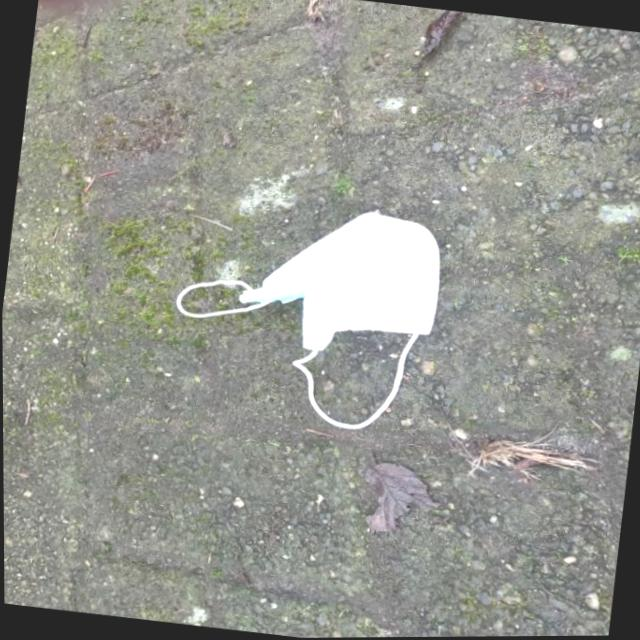Mask: (158, 186, 448, 442)
